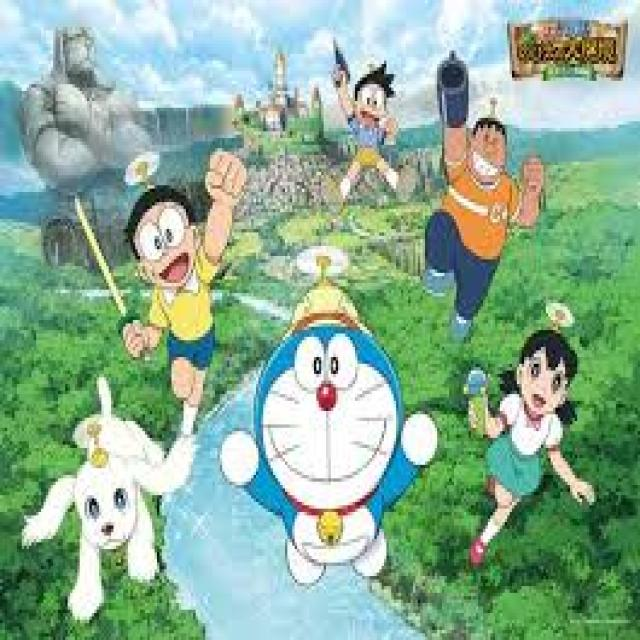doraemon: (229, 296, 447, 580)
jaian: (446, 98, 522, 206)
nobita: (113, 168, 220, 316)
shizuka: (490, 306, 584, 444)
suneo: (343, 50, 398, 134)
